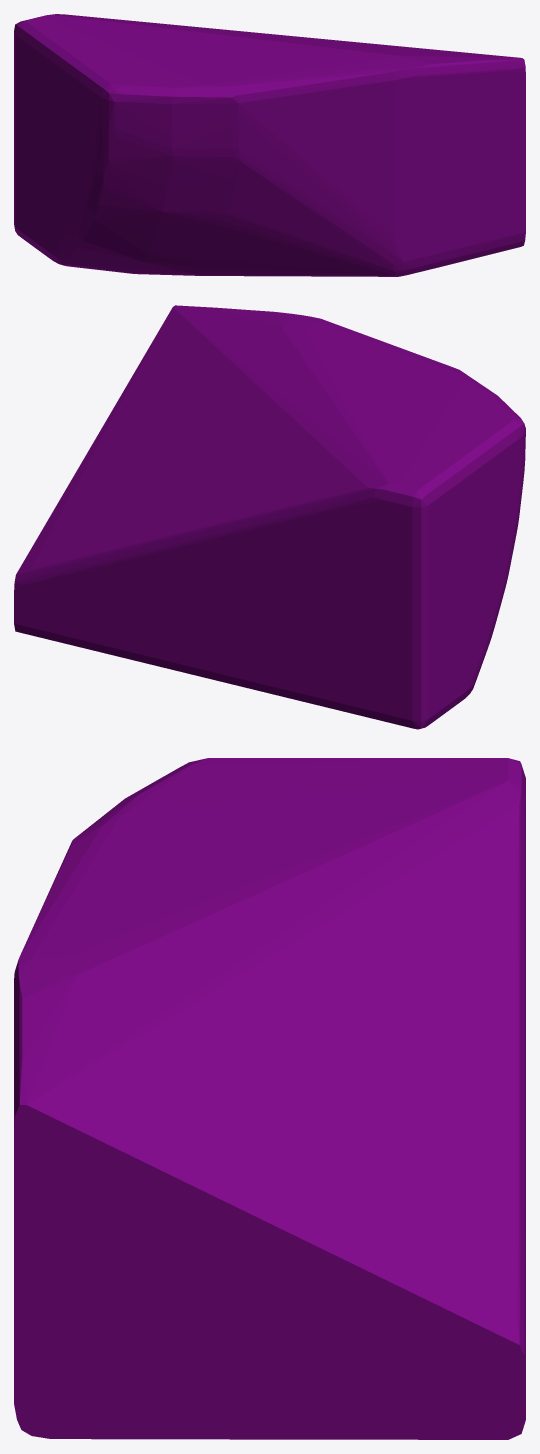
File: right_hip_yaw_link_part_11.obj
3 renders of one model, top to bottom at view 1: azimuth 30°, elevation 25°; view 2: azimuth 150°, elevation 25°; view 3: azimuth 270°, elevation 25°, orthographic. The views are drawn at different scales.
Size of the model in its own units: 0.0594 by 0.0334 by 0.041.
